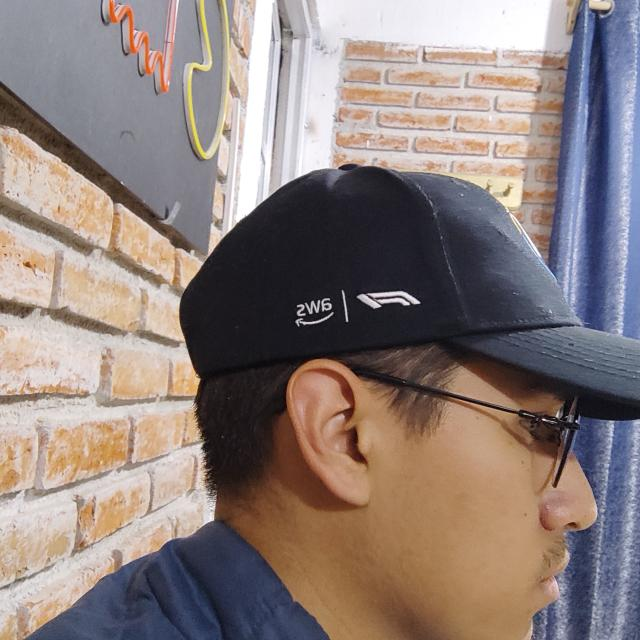ear: (286, 359, 377, 506)
